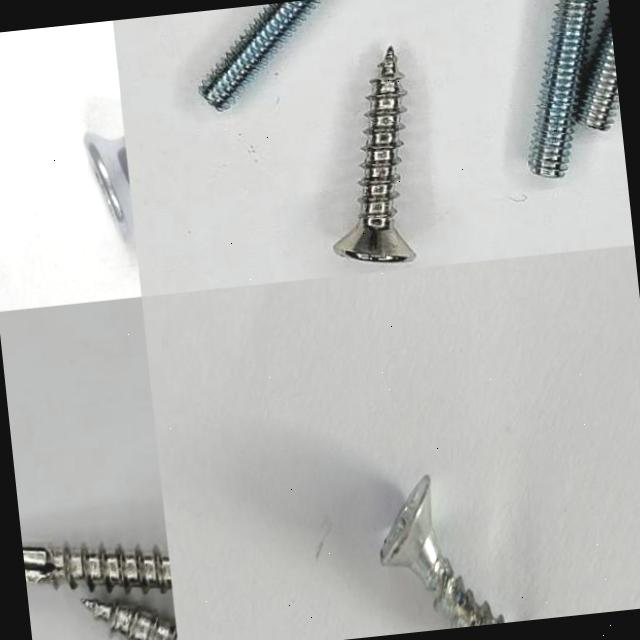Screw: (380, 475, 504, 628), (332, 47, 415, 263), (198, 0, 319, 111), (527, 0, 595, 178), (22, 543, 172, 593), (83, 133, 131, 242), (578, 10, 619, 129), (82, 600, 177, 640)
